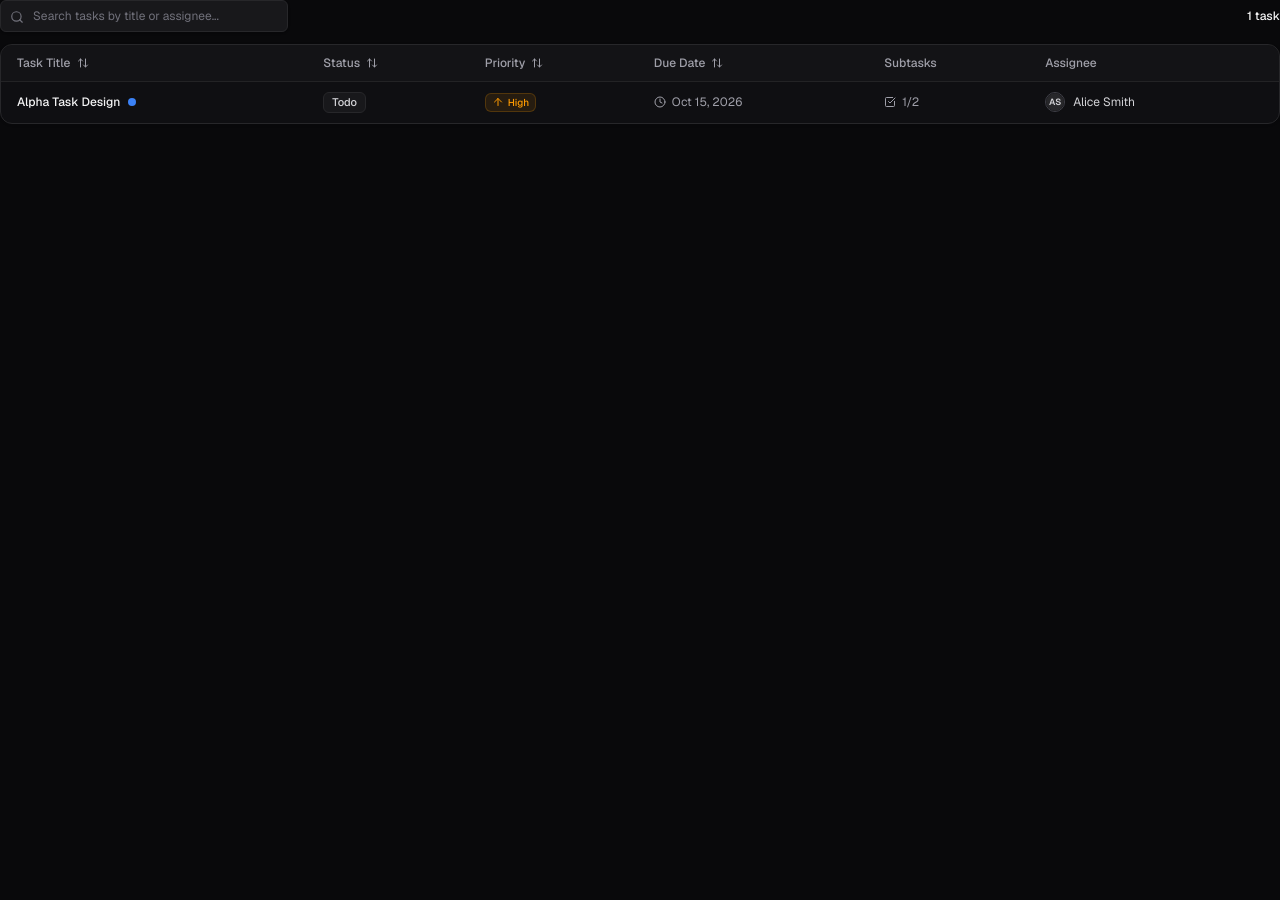
Test: Task Multi-View Frontend Components › ProjectBoardViews Coordinator › renders List view and opens detail modal when task is clicked
Expected: the element with test id "task-list-view" is shown, 0,0 -> 1279,124
Click the row with test id "task-row-task-1" at (69, 102), box 1,82 -> 1279,123
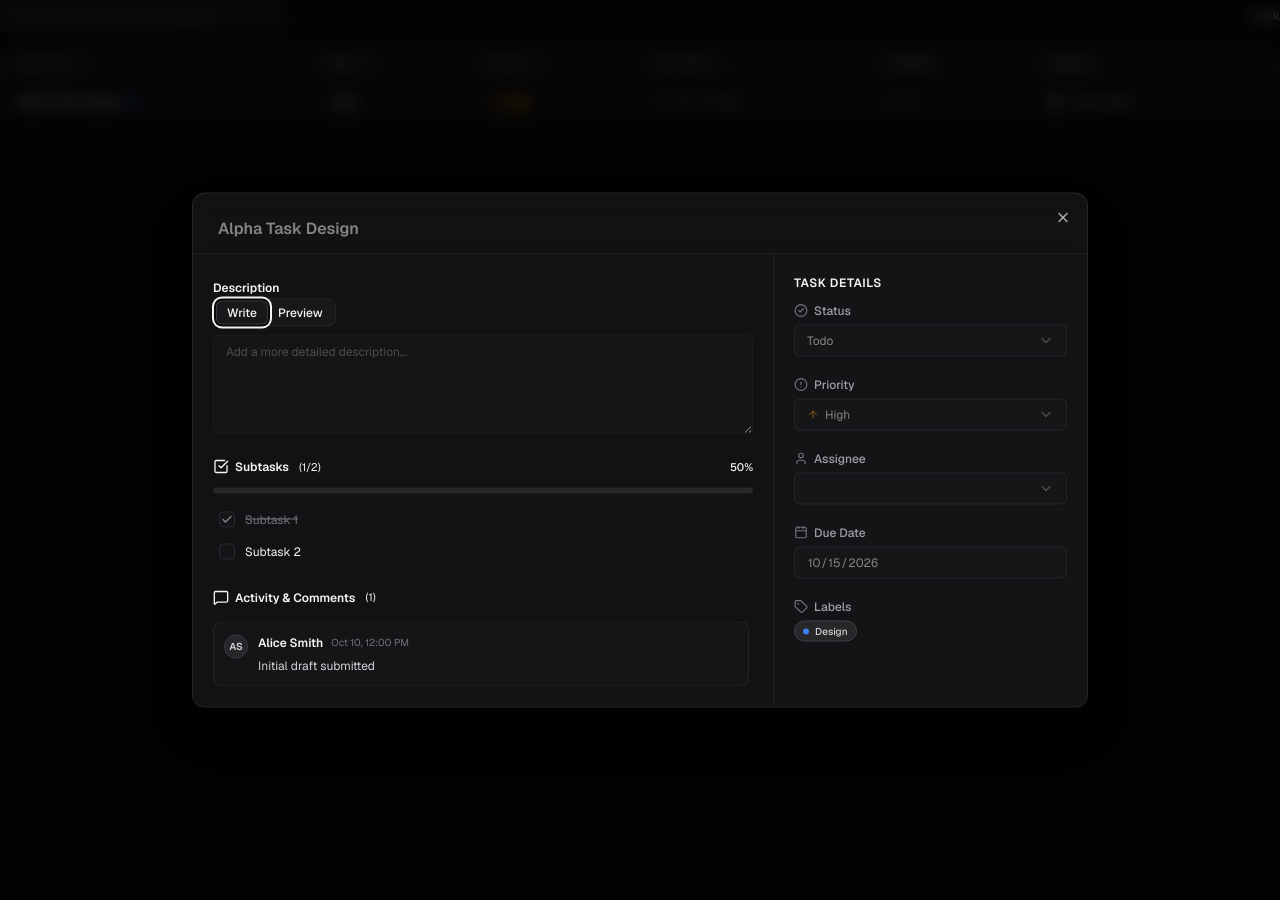
Expected: the dialog with test id "task-detail-modal" is shown, 192,192 -> 1088,708
